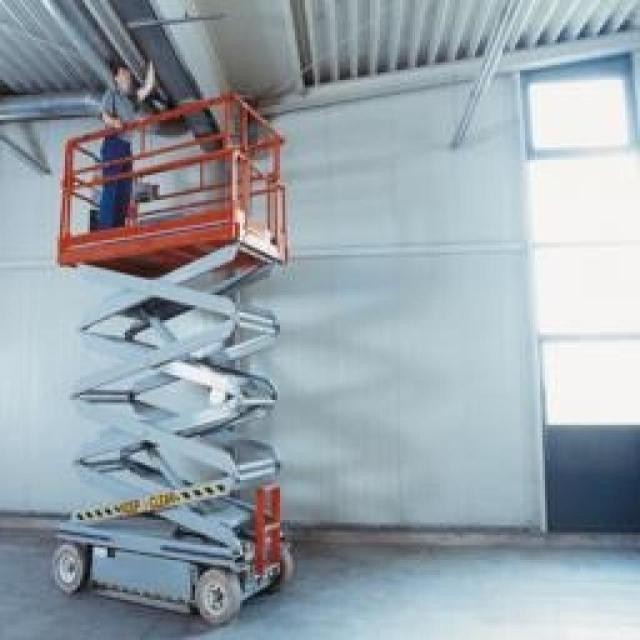Helmet: (77, 76, 142, 226), (105, 46, 141, 108)
